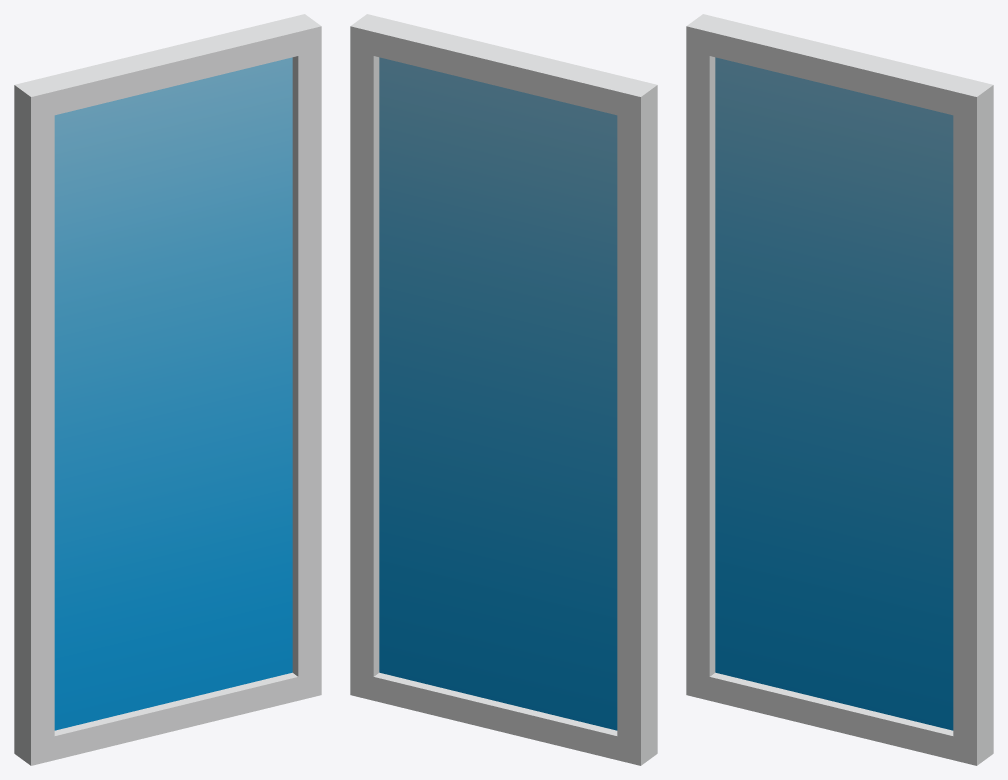
File: Window_White_04.glb
3 renders of one model, left to right at view 1: azimuth 30°, elevation 25°; view 2: azimuth 150°, elevation 25°; view 3: azimuth 330°, elevation 25°, orthographic.
Visible parts, largest first — view 1: Window_White_04; view 2: Window_White_04; view 3: Window_White_04.
Part boxes in pixels (x1,y1,x2,y2): Window_White_04: [14, 14, 321, 765]; Window_White_04: [350, 14, 657, 765]; Window_White_04: [686, 14, 993, 765].
Bounding box in the file's own units: 1 × 2.2 × 0.1.
Materials: 2 (2 with a texture image).
